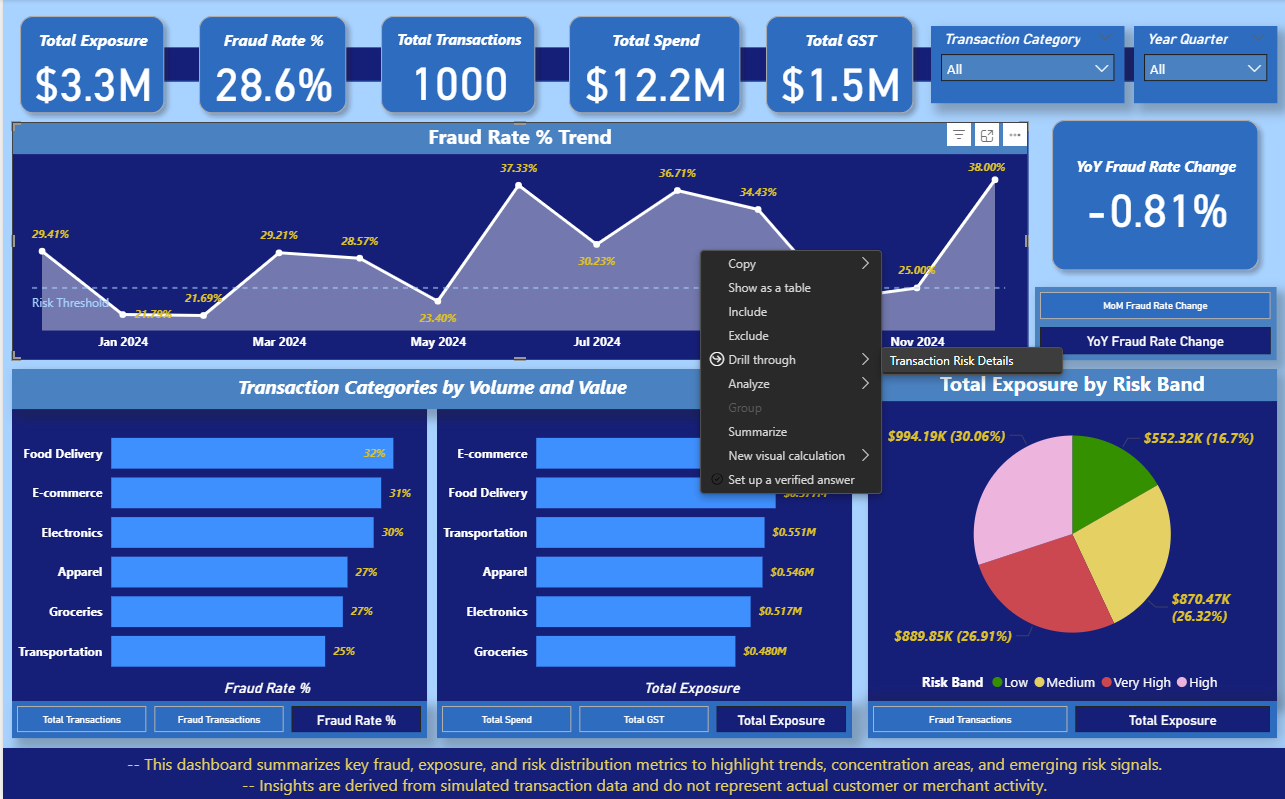

The dashboard page shown, as its layout file describes it:
{"tool":"powerbi","page":{"name":"Executive Risk Overview","canvas":[1280,800],"ordinal":0},"visuals":[{"type":"shape","box":[25.5,48.3,1222.6,34.6],"z":0},{"type":"cardVisual","fields":{"Data":["Available Measures.Fraud Rate %"]},"box":[178.6,0,181,131.2],"z":1000},{"type":"lineChart","title":"Fraud Rate % Trend","fields":{"Y":["Available Measures.Fraud Rate %"],"Category":["transactions_enriched.Transaction Month"]},"box":[9,123,1013.6,237],"z":2000},{"type":"cardVisual","fields":{"Data":["Available Measures.Total Transactions"]},"box":[359.6,0,188.4,131.2],"z":3000},{"type":"cardVisual","fields":{"Data":["Available Measures.Total GST"]},"box":[744.3,0,181.3,131.2],"z":4000},{"type":"cardVisual","fields":{"Data":["Available Measures.Total Spend"]},"box":[548.1,0,205.6,131.2],"z":5000},{"type":"cardVisual","fields":{"Data":["Available Measures.Total Exposure"]},"box":[0,0,178.6,131.2],"z":6000},{"type":"slicer","fields":{"Values":["transactions_enriched.Transaction Category"]},"box":[925.6,27.3,193.1,76.5],"z":7000},{"type":"slicer","fields":{"Values":["transactions_enriched.Year Quarter"]},"box":[1127.9,27.3,143,76.5],"z":8000},{"type":"clusteredBarChart","fields":{"Y":["Available Measures.Fraud Rate %"],"Category":["transactions_enriched.Transaction Category"]},"box":[8.8,408.5,414.3,291.8],"z":9000},{"type":"advancedSlicerVisual","fields":{"Values":["Time Comparison.Time Comparison"]},"box":[1029.7,287.3,240.6,72.7],"z":10000},{"type":"cardVisual","fields":{"Data":["Available Measures.YoY Fraud Rate Change"]},"box":[1029.7,103.2,240.6,184],"z":11000},{"type":"advancedSlicerVisual","fields":{"Values":["Measures Parameter.Measures Parameter"]},"box":[8.8,700.2,414.3,37],"z":12000},{"type":"clusteredBarChart","fields":{"Y":["Available Measures.Total Exposure"],"Category":["transactions_enriched.Transaction Category"]},"box":[432.8,408.5,414.3,291.8],"z":13000},{"type":"advancedSlicerVisual","fields":{"Values":["Measures Parameter 2.Measures Parameter 2"]},"box":[432.8,700.2,414.3,37],"z":14000},{"type":"textbox","box":[8.8,368.6,838.4,39.9],"z":15000},{"type":"pieChart","fields":{"Y":["Available Measures.Total Exposure"],"Category":["transactions_enriched.Risk Band"]},"box":[862.7,368.6,407.5,331.6],"z":16000},{"type":"advancedSlicerVisual","fields":{"Values":["Fraud Transactions/ Exposure Parameter.Fraud Transactions/ Exposure Parameter"]},"box":[862.7,700.2,407.5,37],"z":17000},{"type":"textbox","box":[0,747.1,1279.8,52.9],"z":18000}]}

Visuals, with their boxes in screenshot pixels (x1, y1, x2, y2), scaled from the page's 1280x800 canvas onto the 1285x799 screenshot:
shape: bbox(26, 48, 1253, 83)
cardVisual - Available Measures.Fraud Rate %: bbox(179, 0, 361, 131)
"Fraud Rate % Trend" lineChart: bbox(9, 123, 1027, 360)
cardVisual - Available Measures.Total Transactions: bbox(361, 0, 550, 131)
cardVisual - Available Measures.Total GST: bbox(747, 0, 929, 131)
cardVisual - Available Measures.Total Spend: bbox(550, 0, 757, 131)
cardVisual - Available Measures.Total Exposure: bbox(0, 0, 179, 131)
slicer - transactions_enriched.Transaction Category: bbox(929, 27, 1123, 104)
slicer - transactions_enriched.Year Quarter: bbox(1132, 27, 1276, 104)
clusteredBarChart - Available Measures.Fraud Rate % x transactions_enriched.Transaction Category: bbox(9, 408, 425, 699)
advancedSlicerVisual - Time Comparison.Time Comparison: bbox(1034, 287, 1275, 360)
cardVisual - Available Measures.YoY Fraud Rate Change: bbox(1034, 103, 1275, 287)
advancedSlicerVisual - Measures Parameter.Measures Parameter: bbox(9, 699, 425, 736)
clusteredBarChart - Available Measures.Total Exposure x transactions_enriched.Transaction Category: bbox(434, 408, 850, 699)
advancedSlicerVisual - Measures Parameter 2.Measures Parameter 2: bbox(434, 699, 850, 736)
textbox: bbox(9, 368, 851, 408)
pieChart - Available Measures.Total Exposure x transactions_enriched.Risk Band: bbox(866, 368, 1275, 699)
advancedSlicerVisual - Fraud Transactions/ Exposure Parameter.Fraud Transactions/ Exposure Parameter: bbox(866, 699, 1275, 736)
textbox: bbox(0, 746, 1284, 798)
